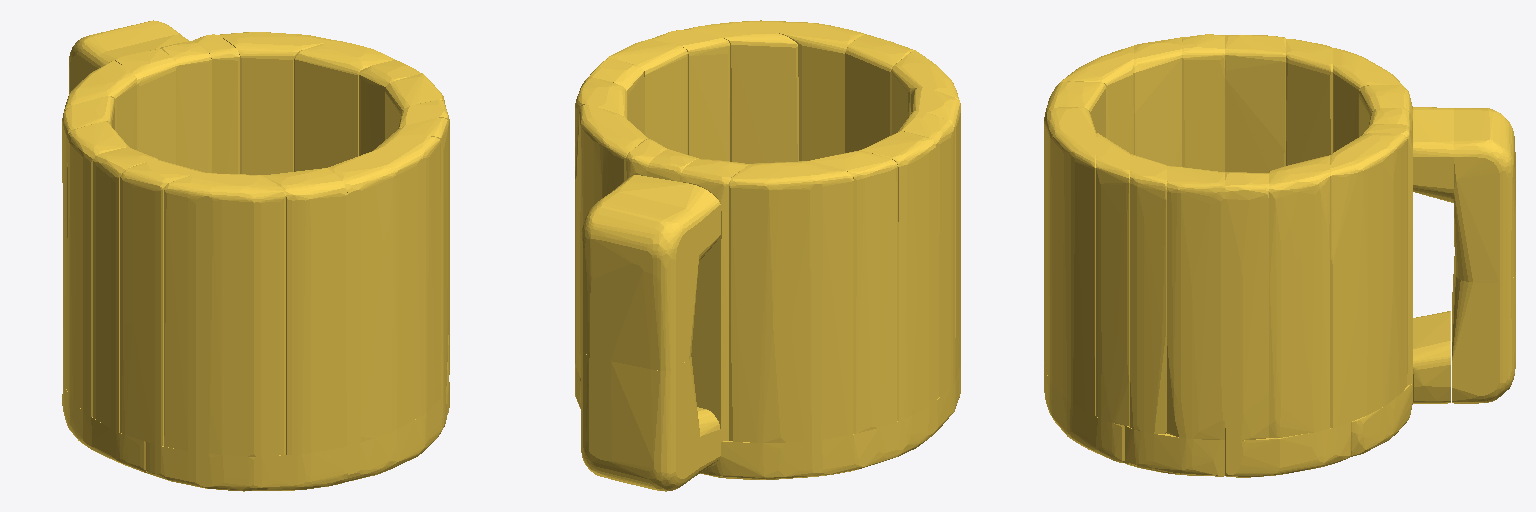
robot.urdf — 911.urdf:
<?xml version="1.0" ?>
<robot name="911.urdf">
	<link name="baseLink">
		<inertial>
			<origin rpy="0 0 0" xyz="0 0 0"/>
				<mass value="0.1"/>
				<inertia ixx="6e-5" ixy="0" ixz="0" iyy="6e-5" iyz="0" izz="6e-5"/>
		</inertial>
		<visual>
			<origin rpy="0 0 0" xyz="0 0 0"/>
			<geometry>
				<mesh filename="19_decom_wt.obj" scale="1.08 1.08 0.84"/>
			</geometry>
			<material name="yellow">
				<color rgba="0.98 0.84 0.35 1"/>
			</material>
		</visual>
		<collision>
			<origin rpy="0 0 0" xyz="0 0 0"/>
			<geometry>
				<mesh filename="19_decom_wt.obj" scale="1.08 1.08 0.84"/>
			</geometry>
		</collision>
	</link>
</robot>

--- Render facts (derived) ---
Views: 3 orthographic renders of the robot side by side, from view 1: azimuth 30°, elevation 25°; view 2: azimuth 150°, elevation 25°; view 3: azimuth 270°, elevation 25°.
Model 911.urdf with 1 links and 0 joints (none), rooted at baseLink, posed every joint at zero.
Visible links, largest first — view 1: baseLink; view 2: baseLink; view 3: baseLink.
Boxes of the visible links, x1,y1,x2,y2 form: baseLink: [62, 20, 449, 491]; baseLink: [575, 20, 960, 491]; baseLink: [1044, 34, 1515, 477].
Bounding box of the posed robot: 0.0929 × 0.1177 × 0.0811 m (x, y, z).
Meshes: 1 distinct files referenced, 1 mesh visuals loaded (1 OBJ).